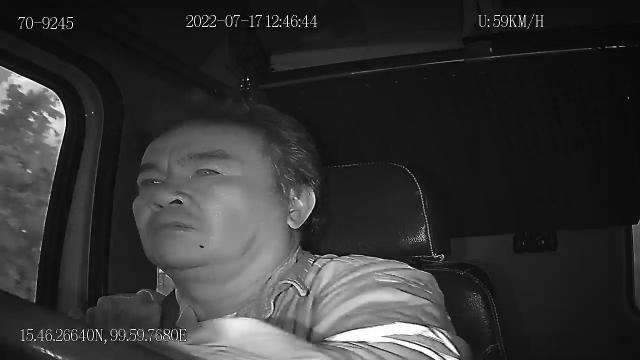SafeDriving: (184, 155, 233, 183), (134, 166, 170, 192)
Seatbelt: (157, 283, 183, 335)
